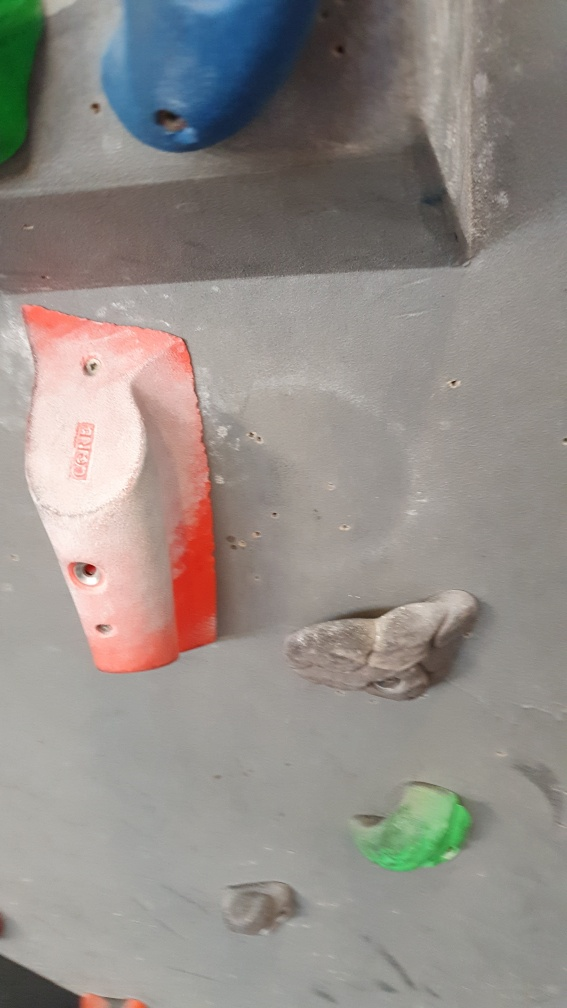Jug: (285, 584, 479, 704), (345, 776, 478, 875)
Pinch: (13, 304, 220, 675)
